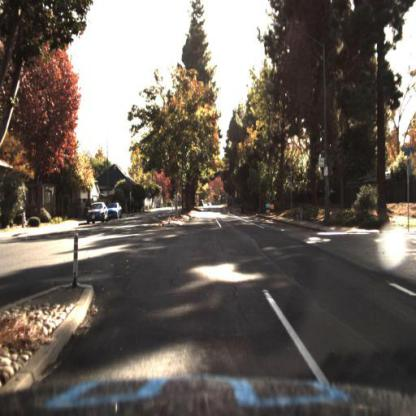car: (87, 196, 110, 227), (108, 201, 126, 224), (111, 204, 123, 222), (198, 195, 205, 211)
